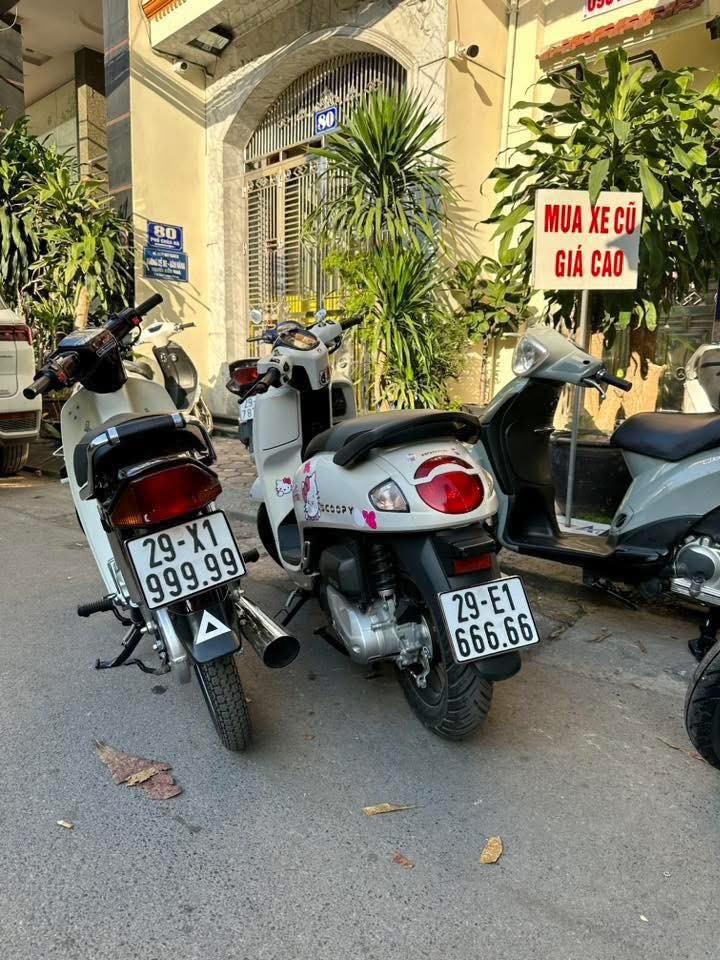bien_so: (125, 508, 250, 615), (432, 569, 551, 668)
